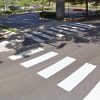crosswalk: (8, 46, 100, 100), (24, 23, 93, 42)
